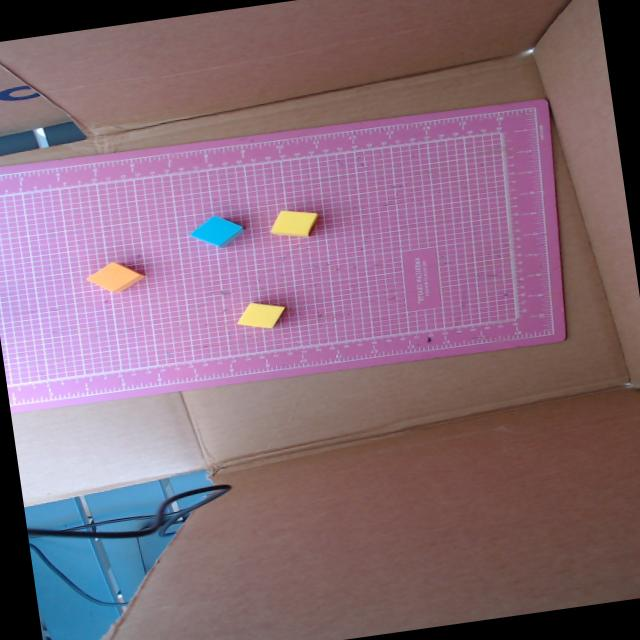bluecube: (189, 216, 243, 248)
orangecube: (86, 262, 144, 292)
yellowcube: (235, 302, 285, 329), (270, 210, 317, 237)
